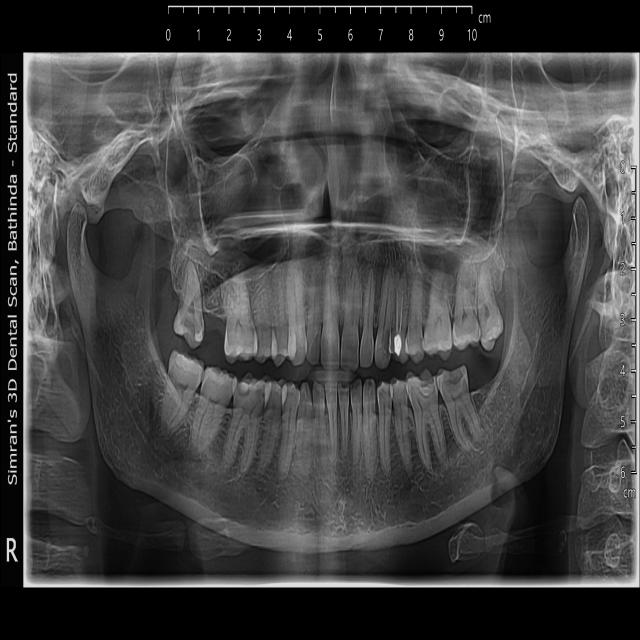Missing teeth: (207, 291, 225, 336)
Root Canal Treatment: (390, 271, 411, 365)
